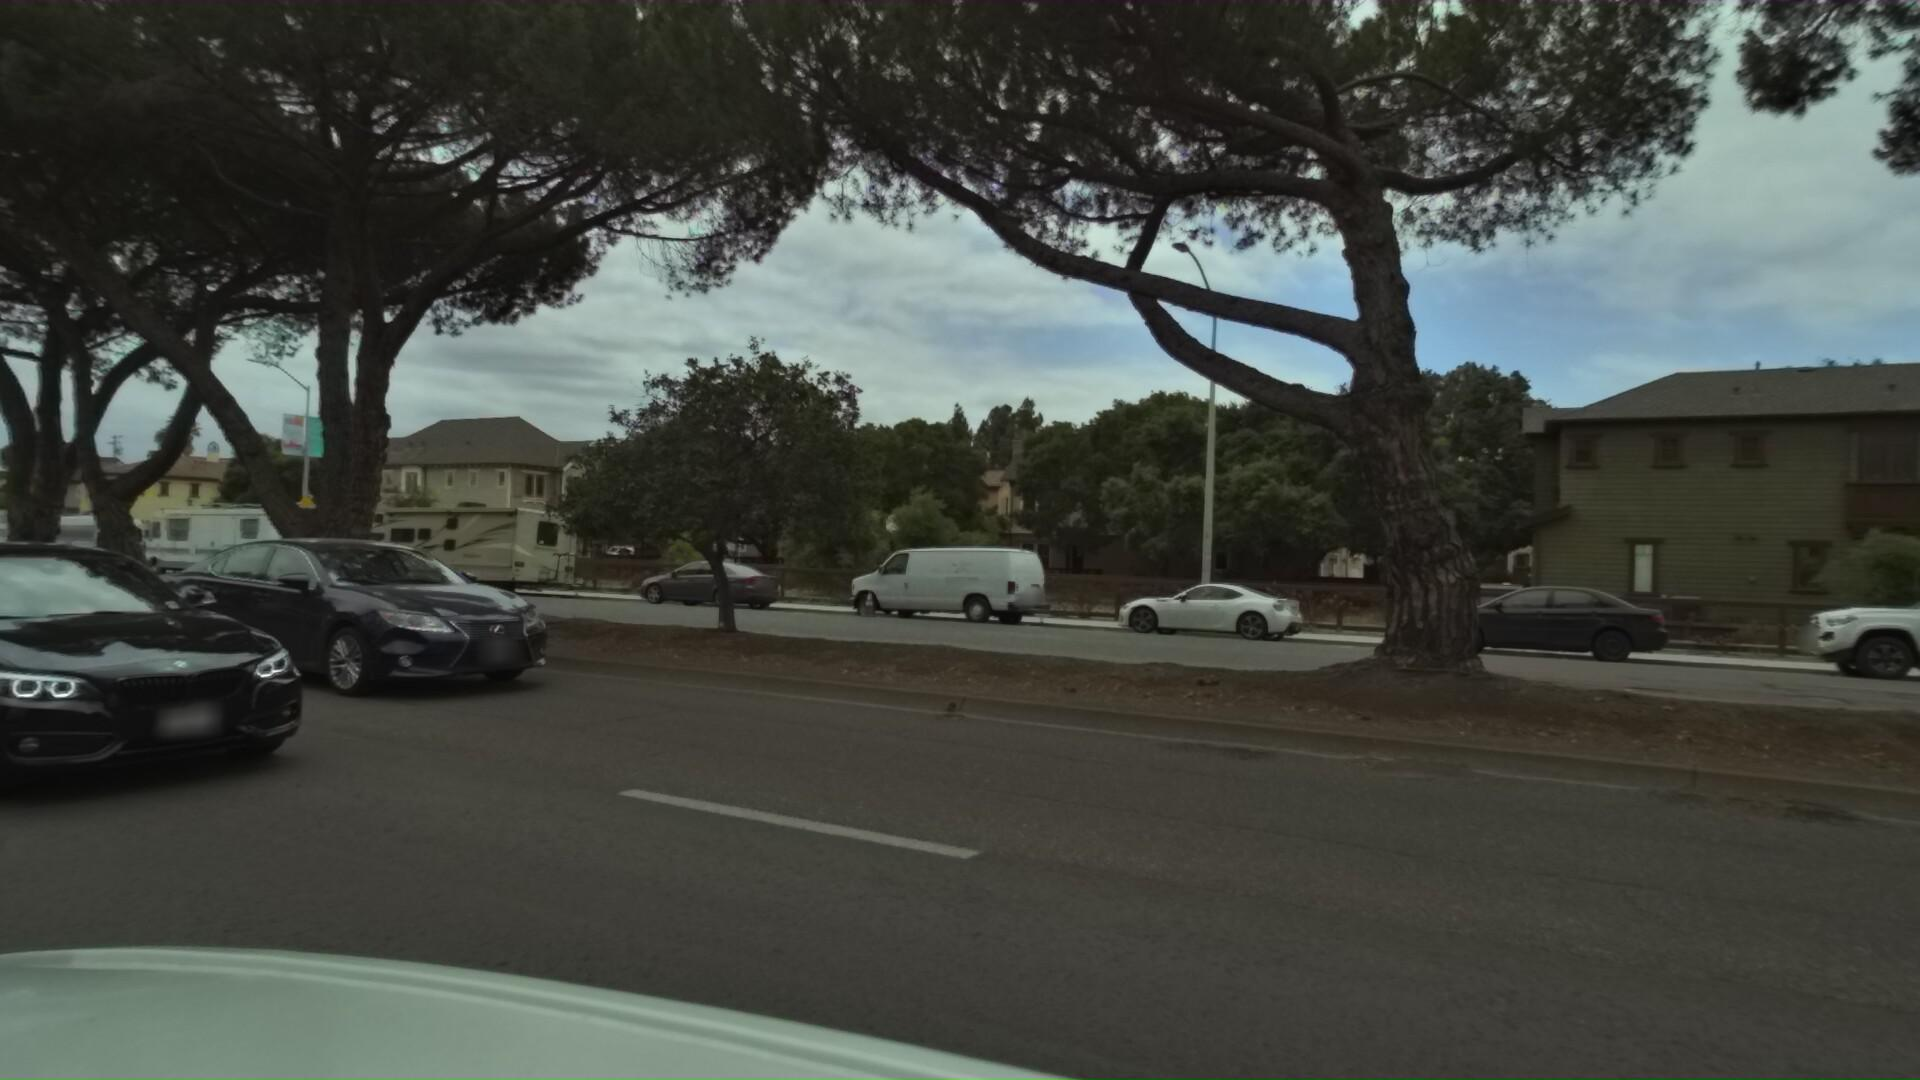car: (0, 495, 378, 828), (135, 491, 592, 713), (1369, 571, 1639, 671), (1737, 566, 1920, 713), (814, 531, 1040, 628), (1075, 570, 1286, 646), (609, 549, 775, 615), (22, 505, 156, 571)
other_vehicle: (336, 493, 600, 597), (132, 492, 342, 582), (0, 502, 79, 564)
